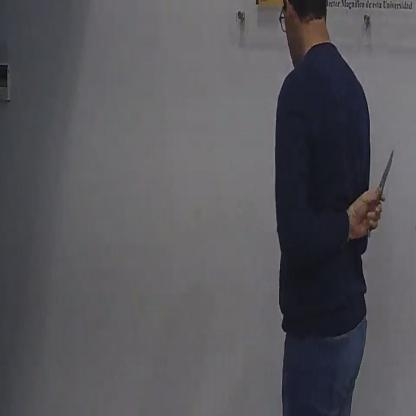knife: (362, 140, 396, 242)
